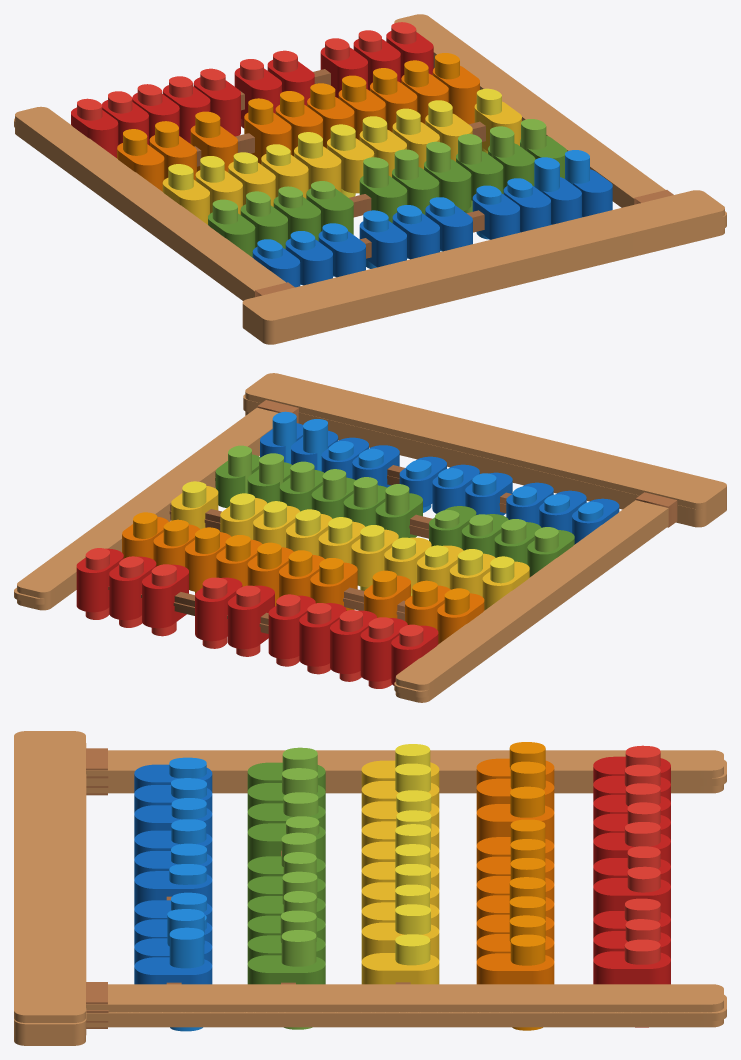
Rendered from emoji_u1f9ee.glb.
The picture shows the model from 3 angles, top to bottom: view 1: azimuth 30°, elevation 25°; view 2: azimuth 150°, elevation 25°; view 3: azimuth 270°, elevation 25°; orthographic projection. The views are drawn at different scales.
Parts seen in each view (by area): view 1: emoji_u1f9ee; view 2: emoji_u1f9ee; view 3: emoji_u1f9ee.
Part boxes in pixels (left/top/right/bottom): emoji_u1f9ee: left=14, top=14, right=726, bottom=344; emoji_u1f9ee: left=14, top=373, right=726, bottom=702; emoji_u1f9ee: left=14, top=731, right=726, bottom=1045.
Size of the model in its own units: 0.0321 by 0.0048 by 0.0338.
